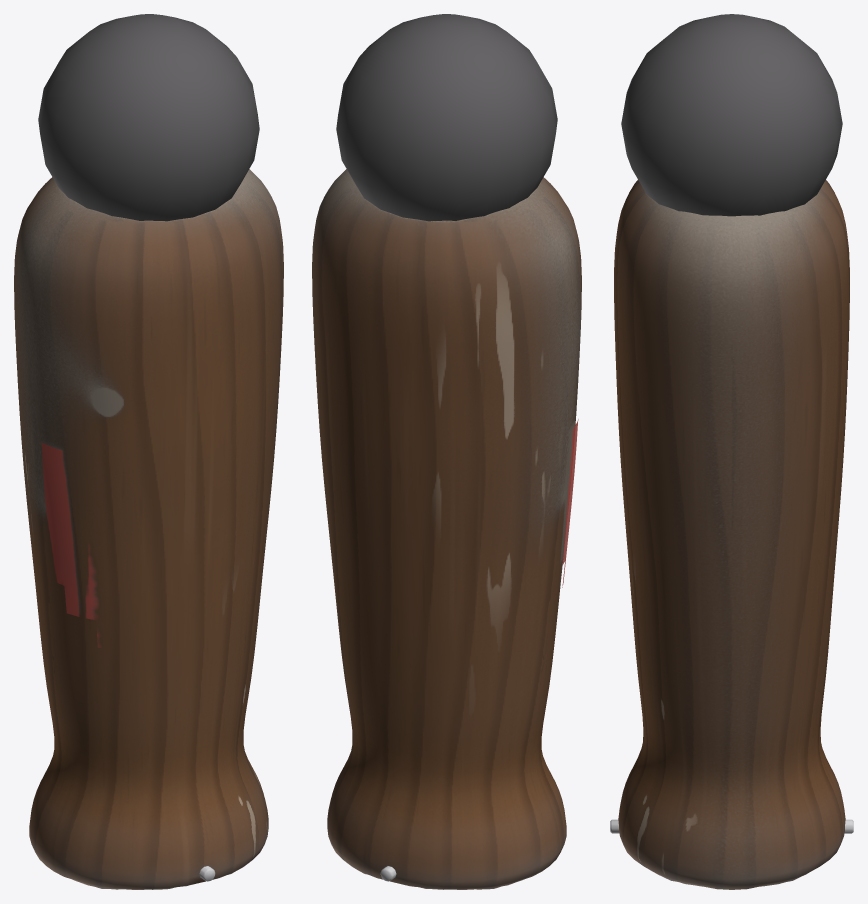
The model's file is UpperLeg_R.glb.
3 renders of one model, left to right at view 1: azimuth 30°, elevation 25°; view 2: azimuth 150°, elevation 25°; view 3: azimuth 270°, elevation 25°, orthographic.
Parts seen in each view (by area): view 1: UpperLeg_R, UpperLeg_R_Ball, UpperLeg_R_Paint; view 2: UpperLeg_R, UpperLeg_R_Ball, UpperLeg_R_Paint; view 3: UpperLeg_R, UpperLeg_R_Ball.
Part boxes in pixels (box(x1,y1,x2,y2)): UpperLeg_R: box(14, 169, 283, 889); UpperLeg_R_Ball: box(38, 14, 259, 221); UpperLeg_R_Paint: box(41, 443, 100, 647); UpperLeg_R: box(312, 169, 581, 889); UpperLeg_R_Ball: box(336, 14, 557, 221); UpperLeg_R_Paint: box(562, 419, 578, 587); UpperLeg_R: box(614, 180, 849, 889); UpperLeg_R_Ball: box(621, 14, 842, 216).
Bounding box in the file's own units: 0.1509 × 0.4905 × 0.132.
Materials: 4 (2 with a texture image).
